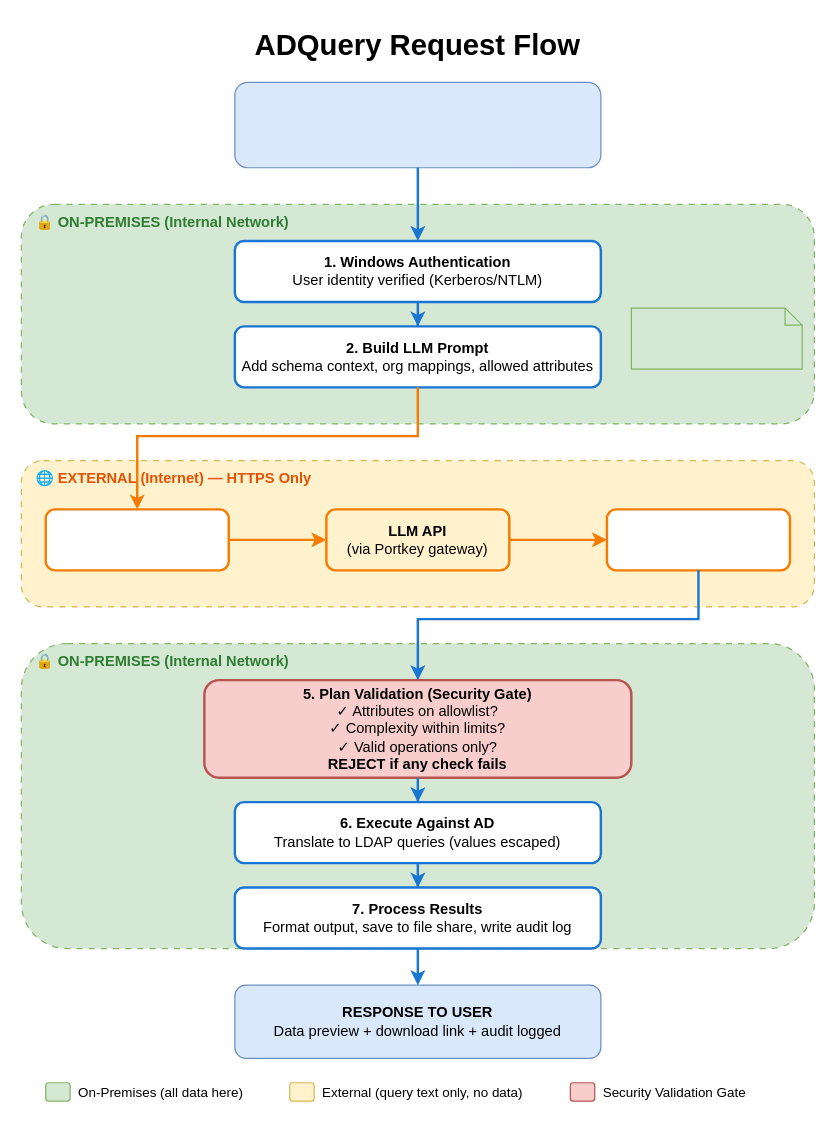
Some shapes in this 836 by 1122 pixel diagram are drawn without their labels. The box of each missing label's shape, as (x1, y1, x2, y2) in pixels:
3. Send to LLM Query + context only: (44, 508, 229, 571)
4. Receive JSON Plan Declarative structure: (605, 508, 791, 571)
USER (Browser) Natural language query: "Show me all contractors in Finance": (234, 81, 601, 168)
✓ Sent: Query text, headers, patterns ✗ NOT sent: User data, CUI, PII: (630, 307, 802, 369)
